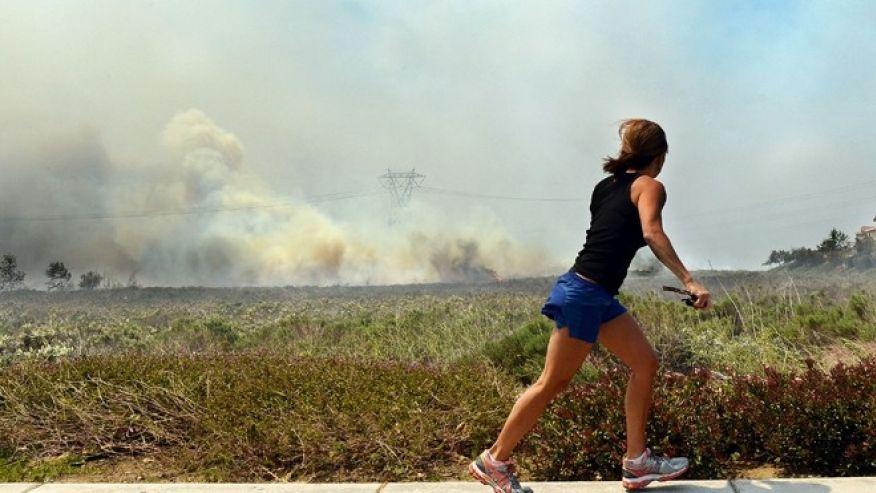smoke: (236, 215, 350, 271), (10, 190, 80, 262)
